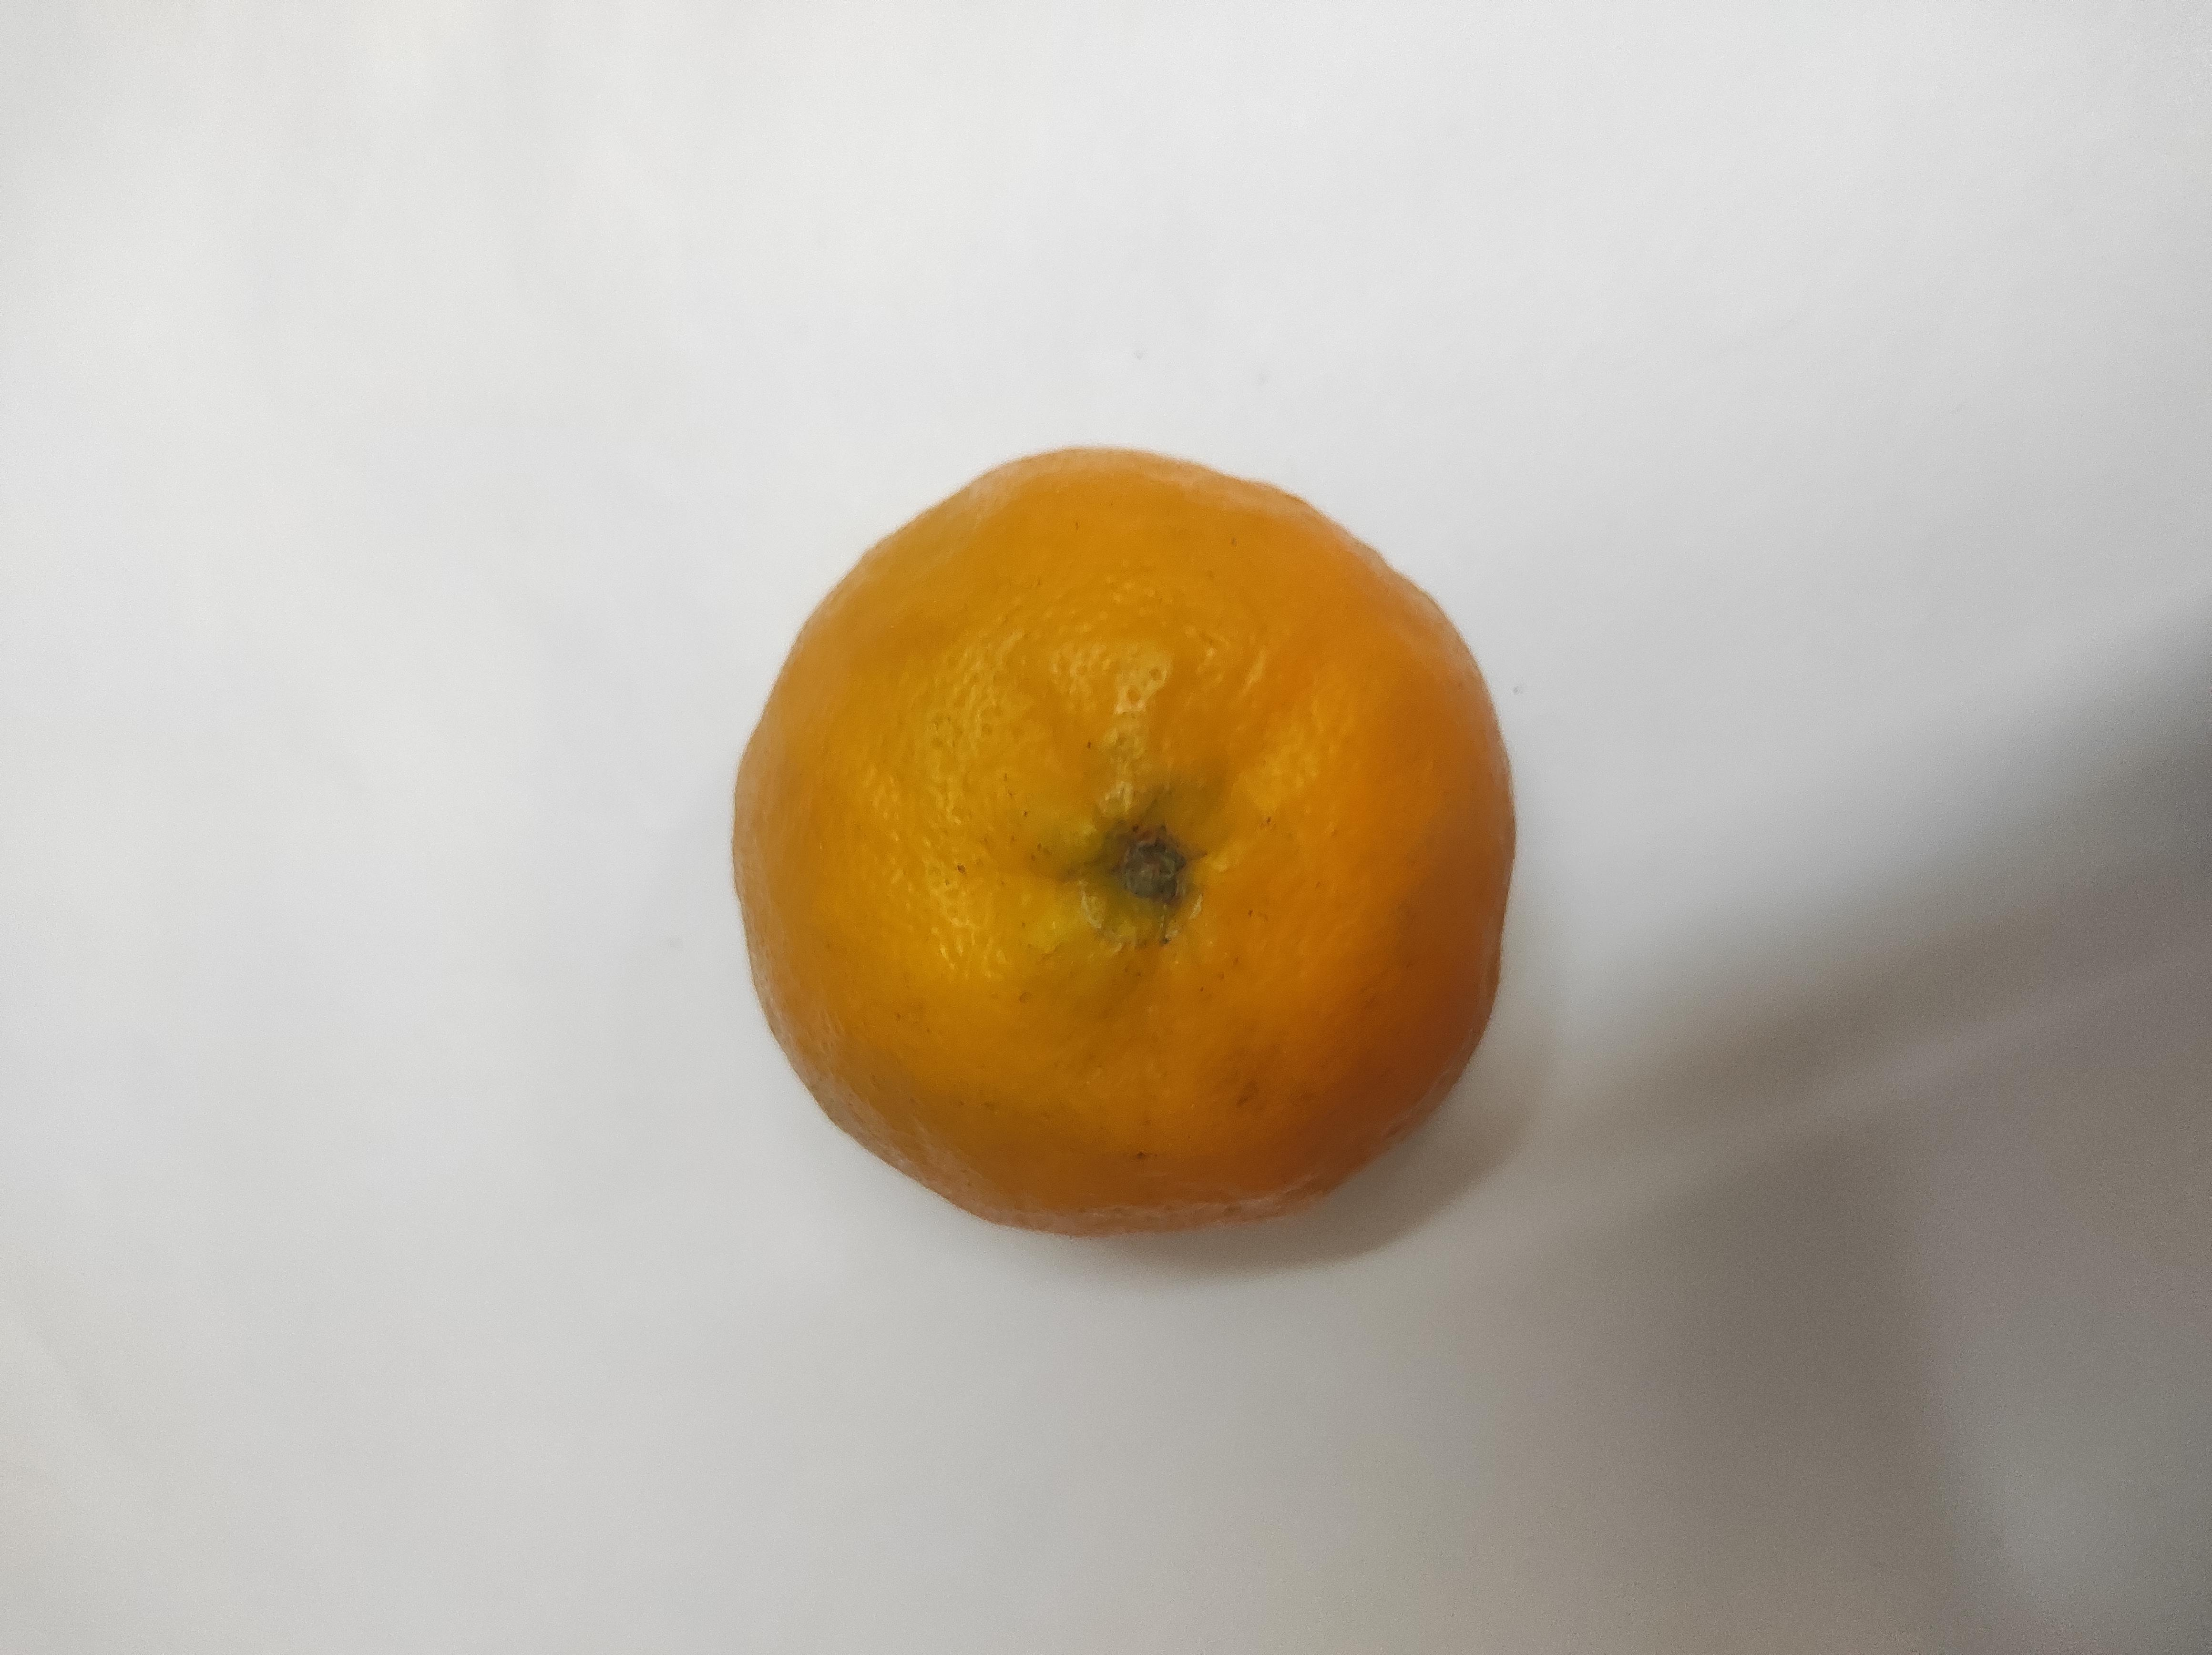Unripe: (729, 443, 1520, 1234)
